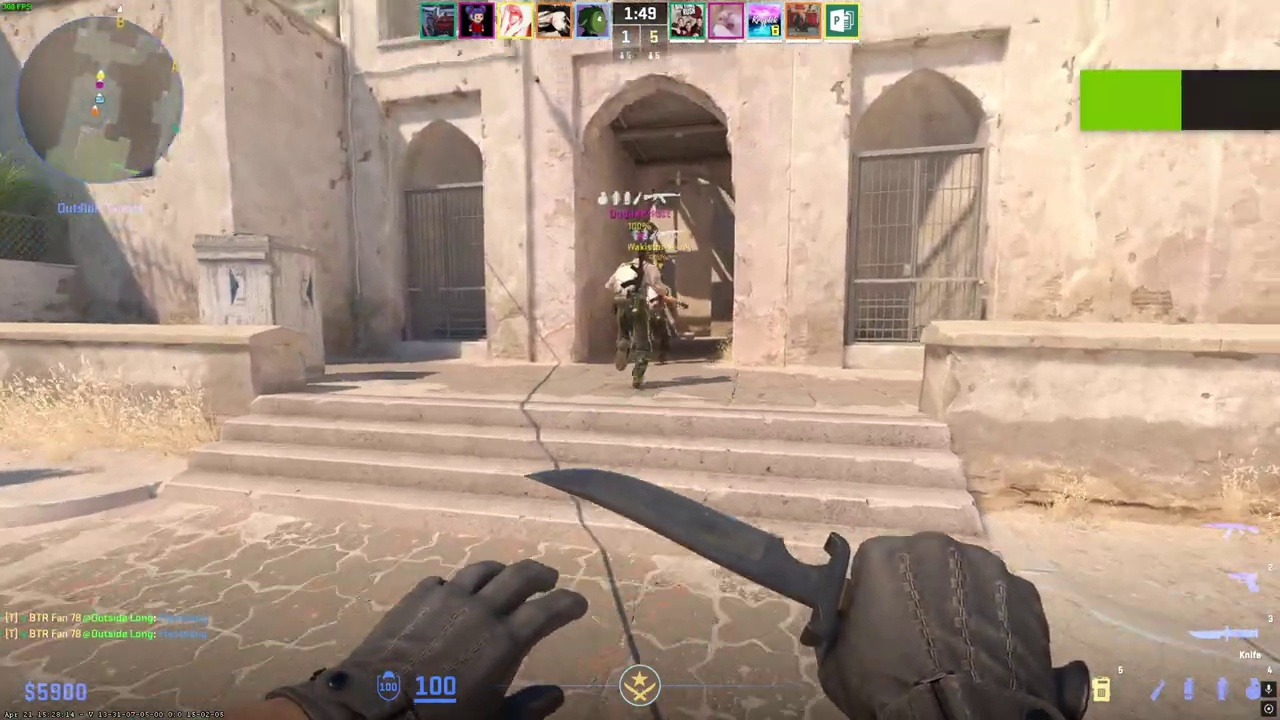Terrorist: (608, 251, 661, 389)
